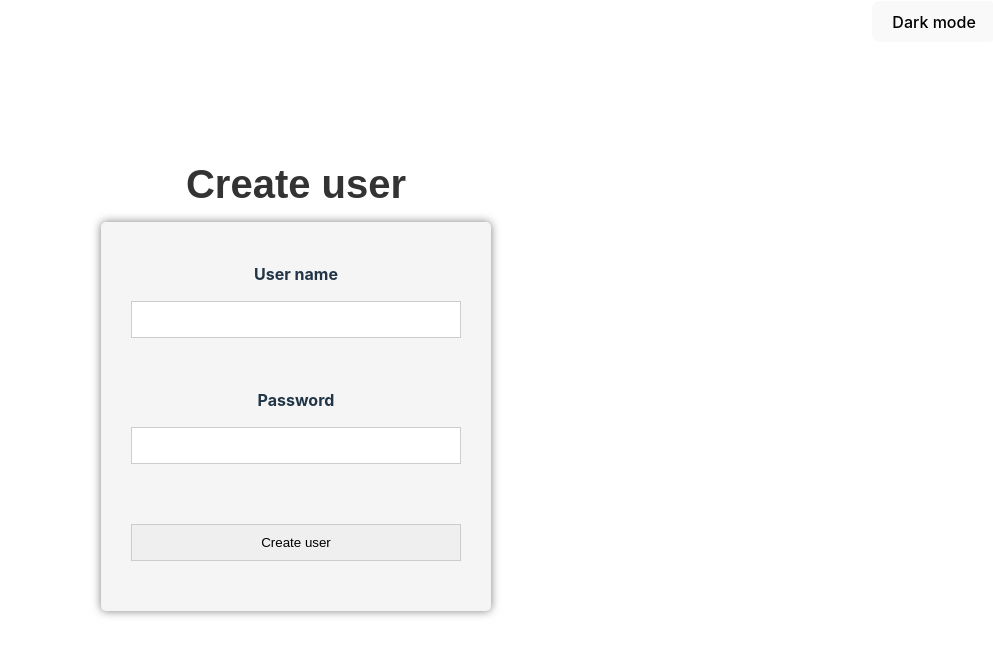
Test case: App › should render success message after succesful submit
This screenshot has width=993, height=649.
Type "John" into the field labelled "User name" at (296, 319), box [131,300,461,338]
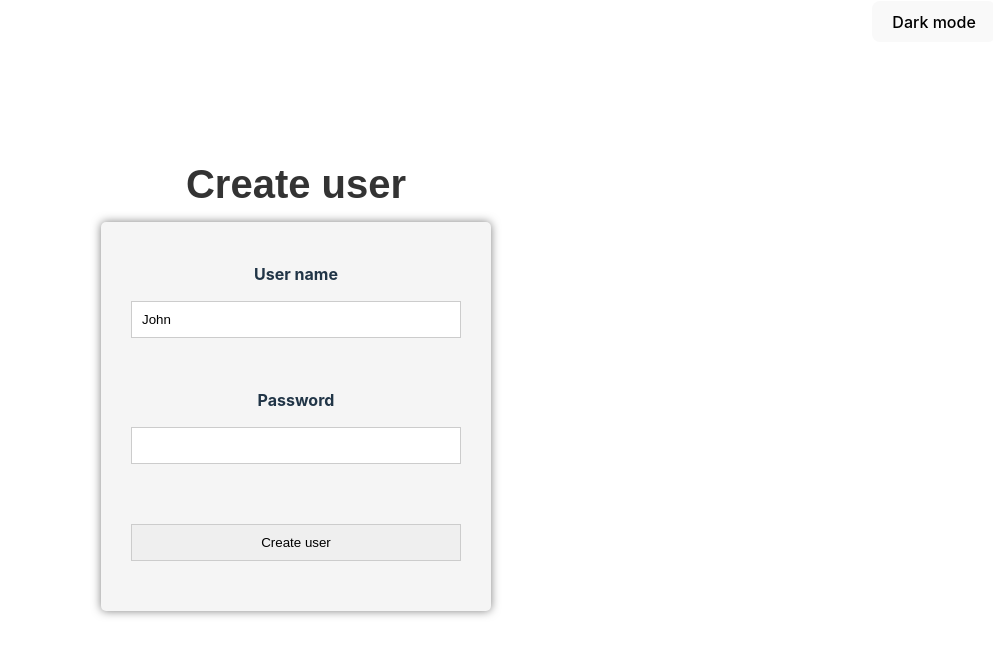
Type "Qwer3212@1@" into the password field labelled "Password" at (296, 445), box [131,426,461,464]
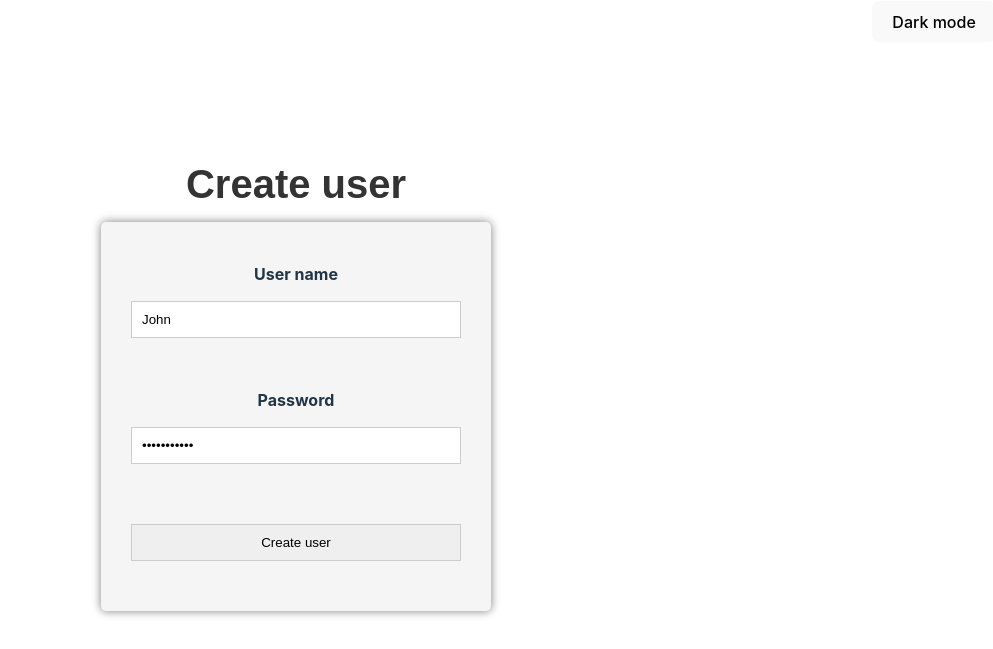
Click the button "Create user" at (296, 542), box [131,524,461,560]
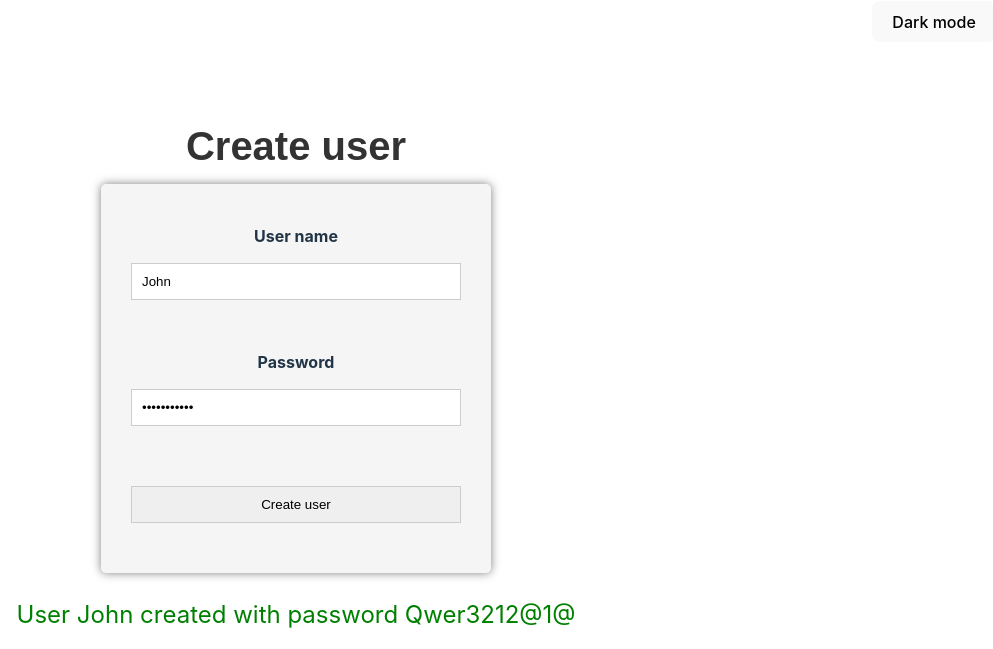
Now the text "User John created with password Qwer3212@1@" is shown, box [17,596,576,632]
